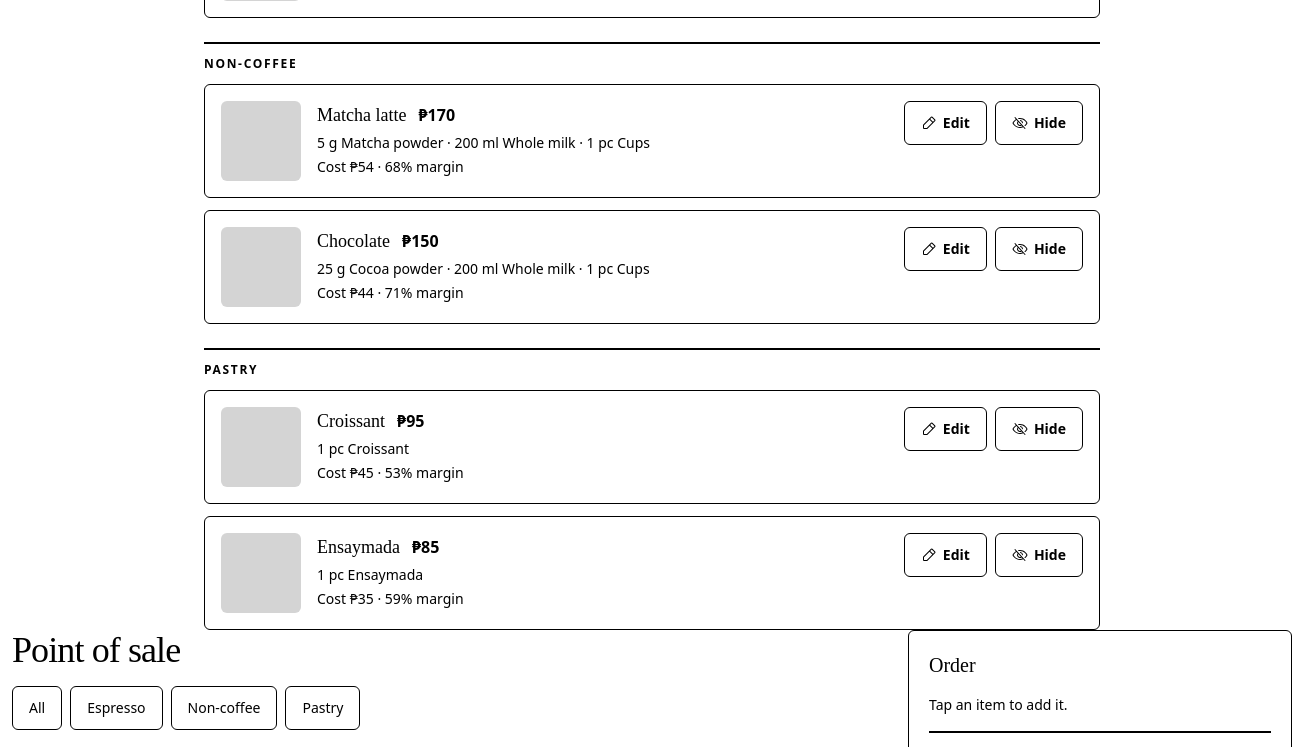
Test: Menu › hiding the croissant shows the Hidden badge and the POS no longer lists it
This screenshot has width=1292, height=747.
(page scrolled)
Click the button "Hide" in the row of "1 pc Croissant" at (1039, 429), box [995,407,1083,451]
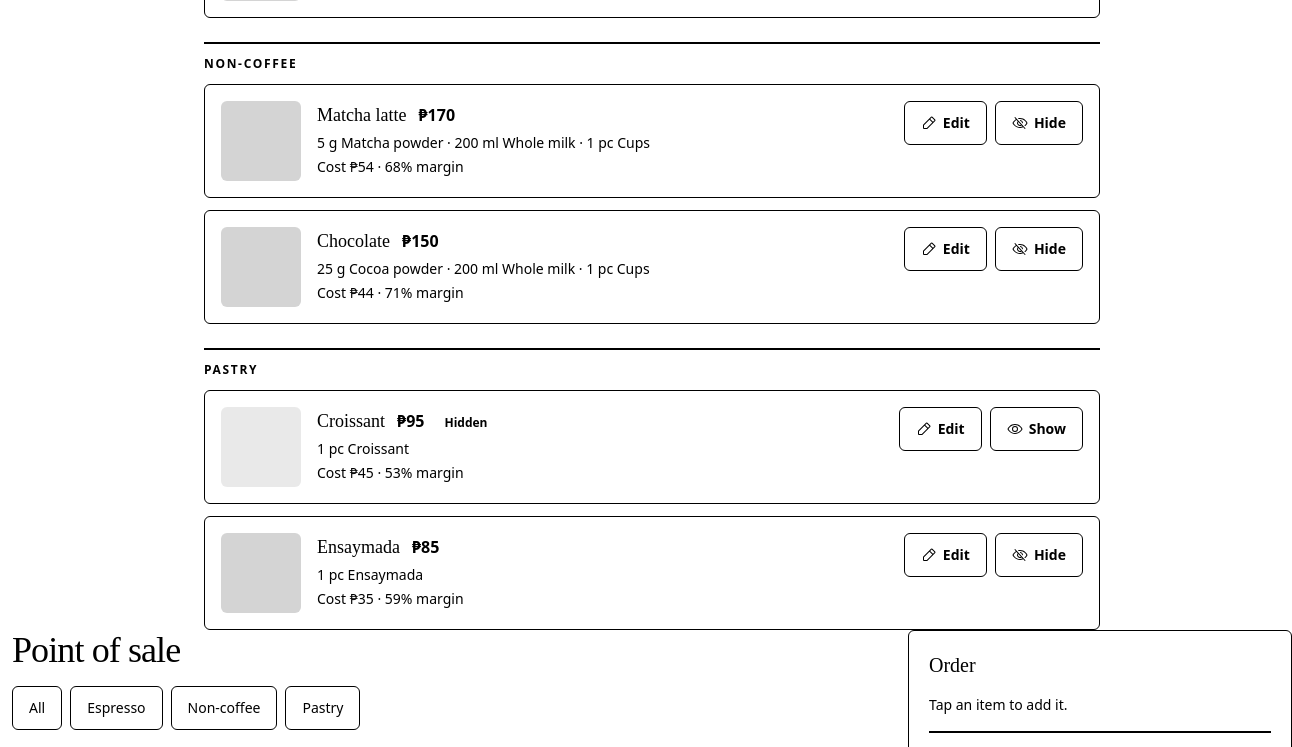
Expected: the button "Show" is shown, [990,407,1083,451]
Result: the list item that starts with "Croissant" shows "Hidden" at [444,414,488,431]
